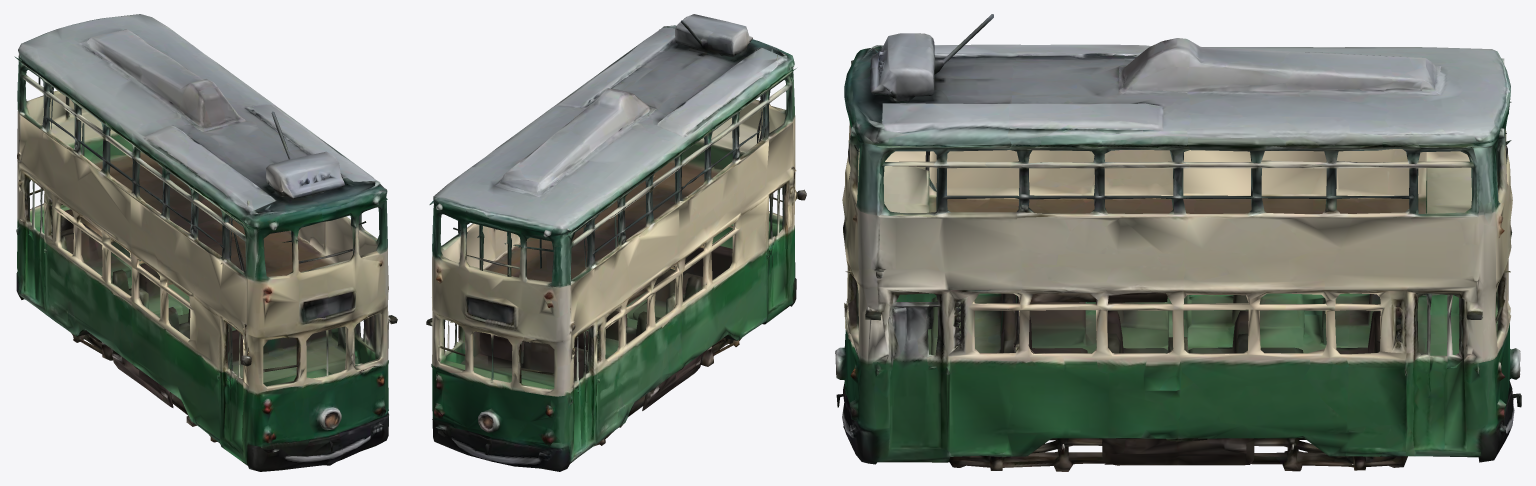
The model's file is tram.glb.
The picture shows the model from 3 angles, left to right: view 1: azimuth 30°, elevation 25°; view 2: azimuth 150°, elevation 25°; view 3: azimuth 270°, elevation 25°; orthographic projection. The views are drawn at different scales.
Visible parts, largest first — view 1: tripo_node_1ea76563-cb07-4fb6-b2b0-e54724c0dc3e; view 2: tripo_node_1ea76563-cb07-4fb6-b2b0-e54724c0dc3e; view 3: tripo_node_1ea76563-cb07-4fb6-b2b0-e54724c0dc3e.
Boxes of the visible parts, left/top/right/bottom form: tripo_node_1ea76563-cb07-4fb6-b2b0-e54724c0dc3e: left=14, top=14, right=397, bottom=471; tripo_node_1ea76563-cb07-4fb6-b2b0-e54724c0dc3e: left=426, top=14, right=806, bottom=471; tripo_node_1ea76563-cb07-4fb6-b2b0-e54724c0dc3e: left=835, top=14, right=1521, bottom=471.
Bounding box in the file's own units: 0.3406 × 0.6651 × 0.9795.
1 material, 1 textured.
